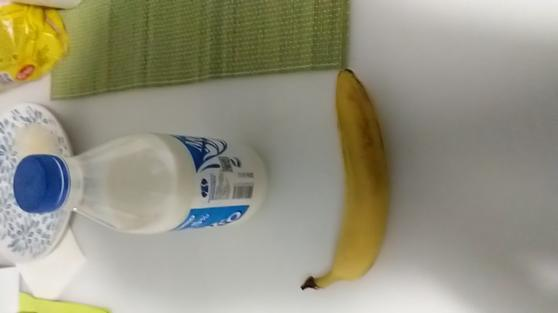banana: (294, 64, 409, 302)
milk: (9, 127, 285, 240)
